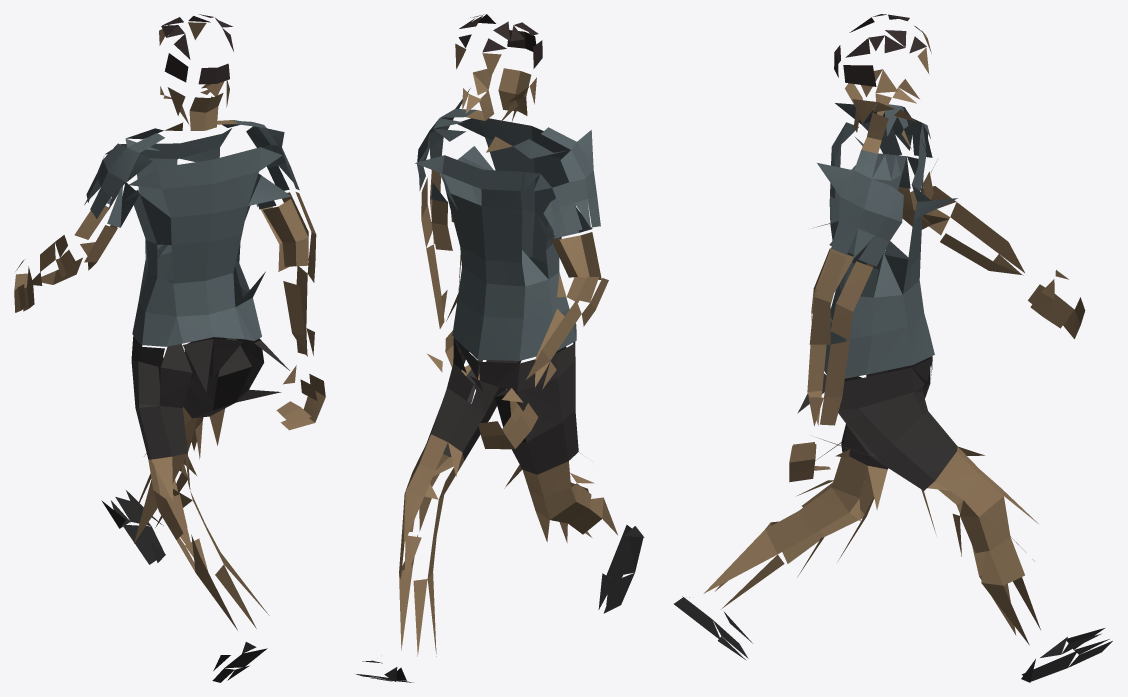
Rendered from personfar_3_w3.fbx.
3 renders of one model, left to right at view 1: azimuth 30°, elevation 25°; view 2: azimuth 150°, elevation 25°; view 3: azimuth 270°, elevation 25°, orthographic. The views are drawn at different scales.
Visible parts, largest first — view 1: BaseHuman; view 2: BaseHuman; view 3: BaseHuman.
Boxes of the visible parts, bbox=[...] form: BaseHuman: bbox=[14, 14, 325, 682]; BaseHuman: bbox=[356, 14, 644, 682]; BaseHuman: bbox=[674, 14, 1112, 682].
Size of the model in its own units: 0.3439 by 0.9787 by 0.593.
